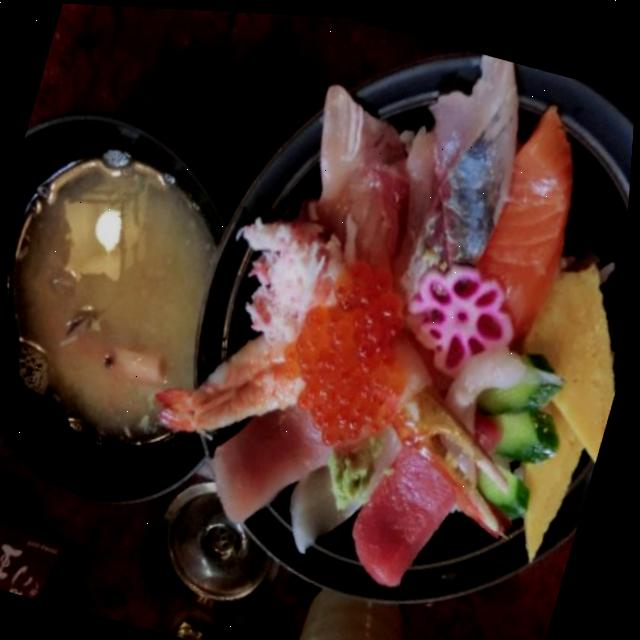刺身生食: (126, 6, 640, 640)
汤锅炖物: (0, 81, 298, 532)
